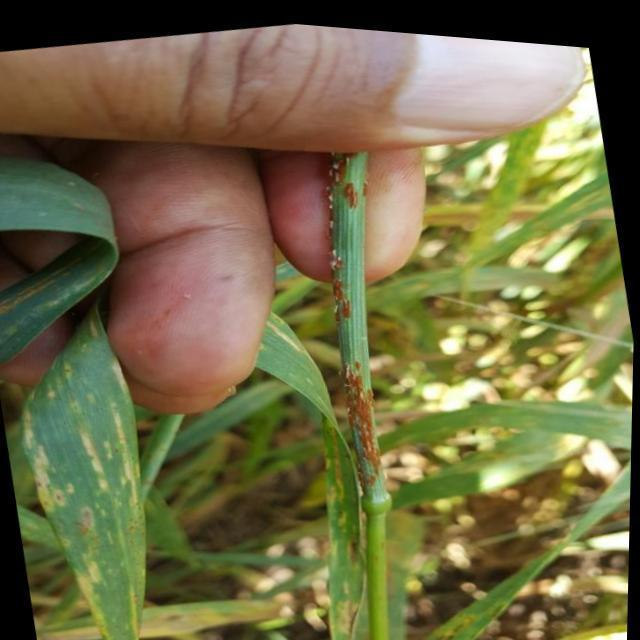Stem Rust: (22, 302, 148, 639), (322, 144, 406, 639)
